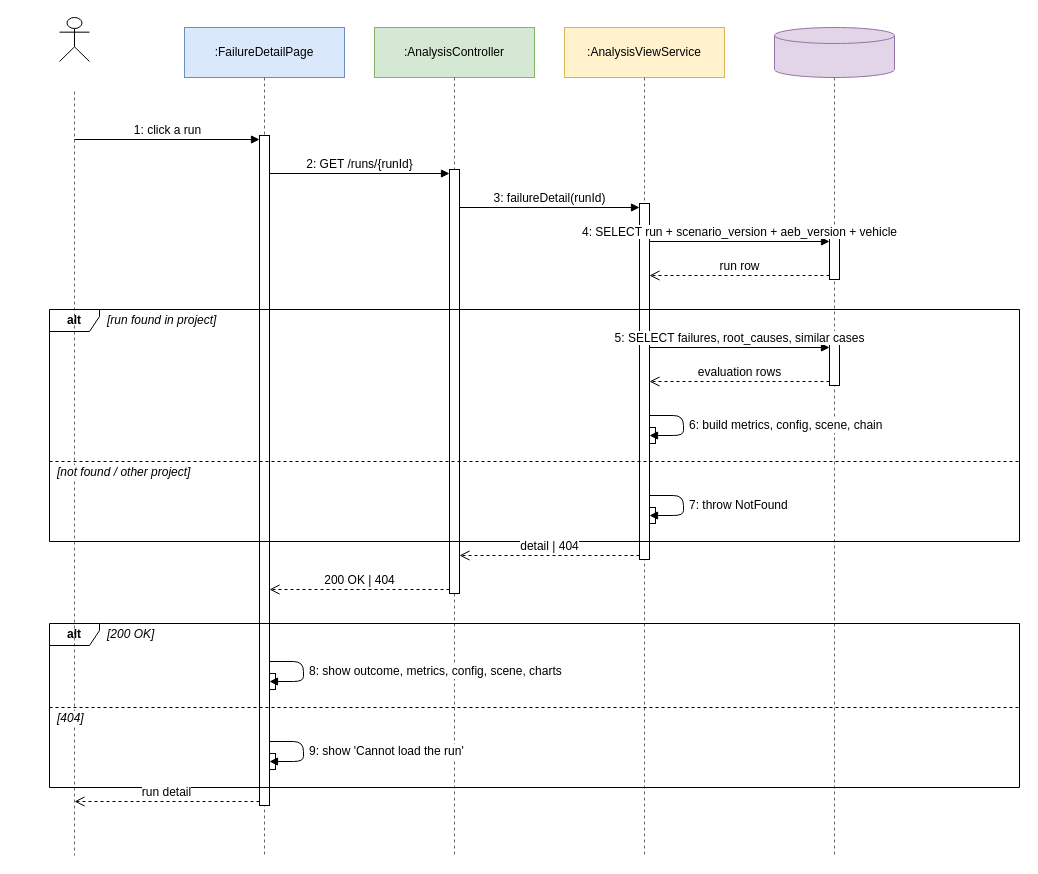
The diagram is 1038 pixels wide and 874 high, and some of its shapes have lost their labels. The centre of each missing label's shape, as x and y in pixels:
"Engineer / Reviewer / Experiencer" goes at point (74, 39).
"MySQL" goes at point (834, 52).
